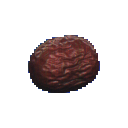gd: (23, 20, 111, 118)
